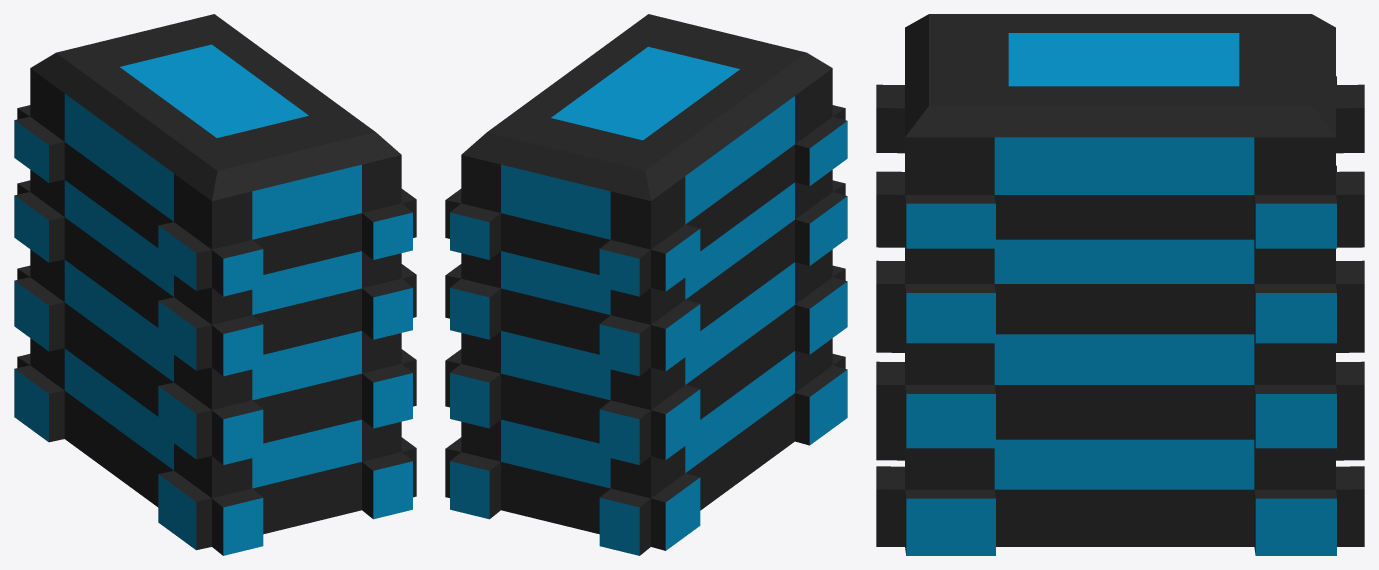
Rendered from MedBuildingNeon01.fbx.
The picture shows the model from 3 angles, left to right: view 1: azimuth 30°, elevation 25°; view 2: azimuth 150°, elevation 25°; view 3: azimuth 270°, elevation 25°; orthographic projection. The views are drawn at different scales.
Parts seen in each view (by area): view 1: MedBuildingNeon01; view 2: MedBuildingNeon01; view 3: MedBuildingNeon01.
Boxes of the visible parts, x1=… form: MedBuildingNeon01: x1=14, y1=14, x2=416, y2=555; MedBuildingNeon01: x1=445, y1=14, x2=847, y2=555; MedBuildingNeon01: x1=876, y1=14, x2=1364, y2=555.
Bounding box in the file's own units: 1.36 × 2.16 × 2.21.
